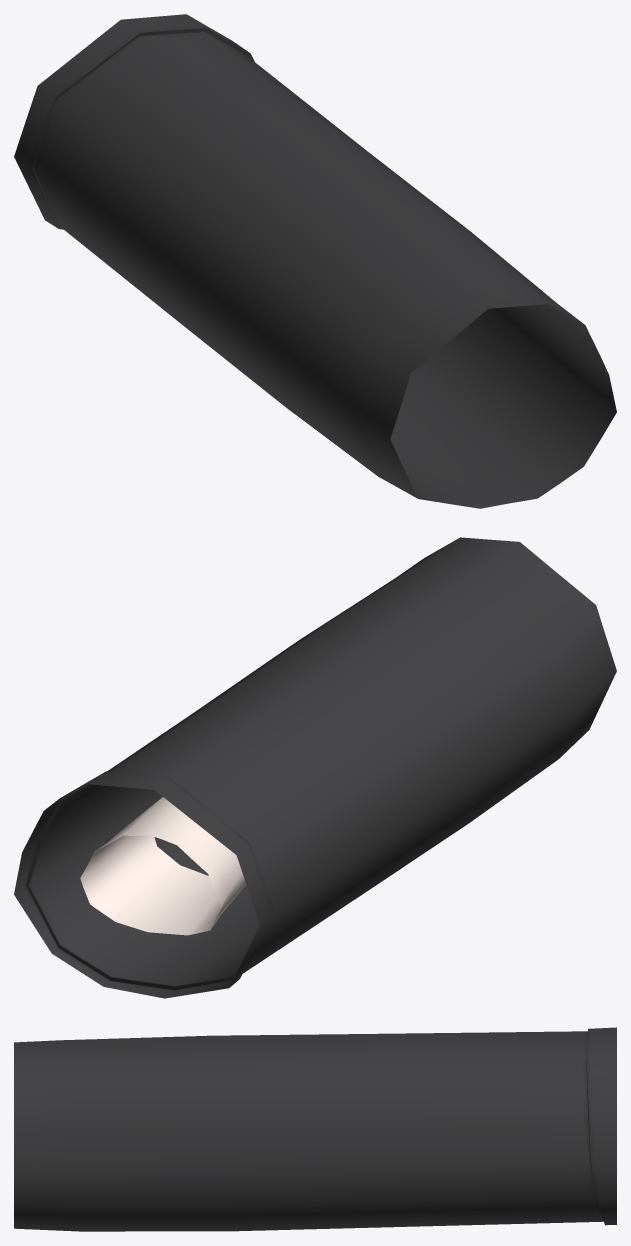
File: RyoFretFore.obj
3 renders of one model, top to bottom at view 1: azimuth 30°, elevation 25°; view 2: azimuth 150°, elevation 25°; view 3: azimuth 270°, elevation 25°, orthographic. The views are drawn at different scales.
Bounding box in the file's own units: 0.1364 × 0.1171 × 0.3492.
2 materials, 2 textured.
